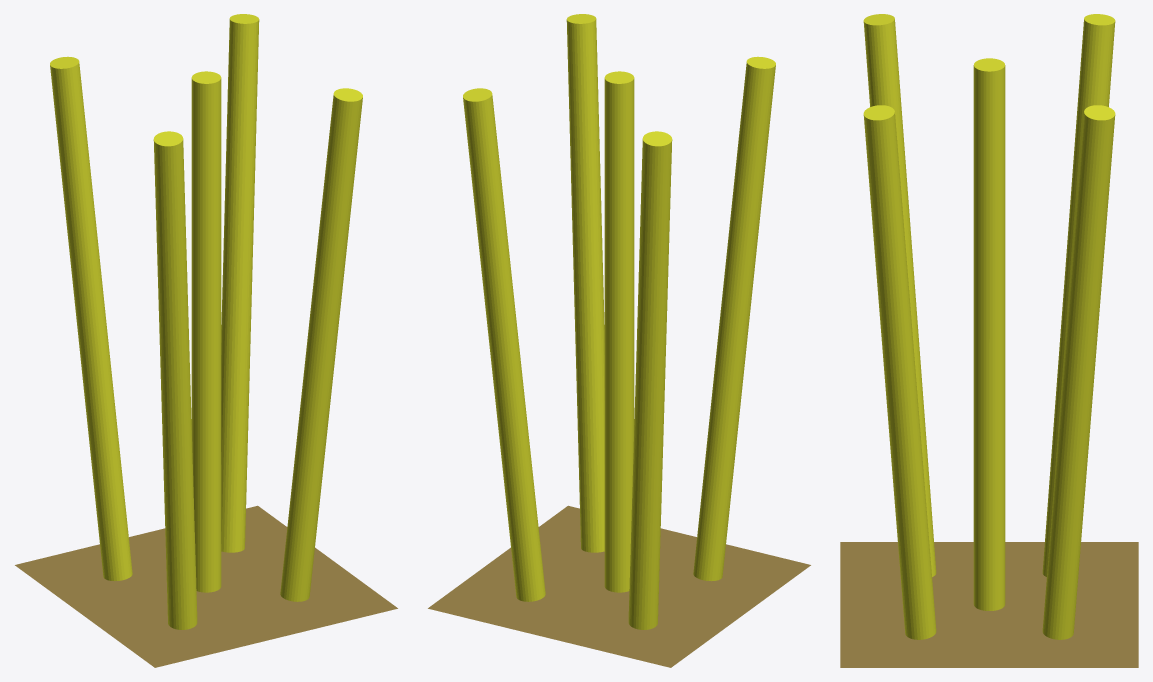
The model's file is TestGameColos.fbx.
The picture shows the model from 3 angles, left to right: view 1: azimuth 30°, elevation 25°; view 2: azimuth 150°, elevation 25°; view 3: azimuth 270°, elevation 25°; orthographic projection. The views are drawn at different scales.
Visible parts, largest first — view 1: Colos.001, Ground, Colos; view 2: Colos.001, Ground, Colos; view 3: Colos.001, Ground, Colos.
Part boxes in pixels (<box>): Colos.001: <box>50,14,362,629</box>; Ground: <box>15,505,397,667</box>; Colos: <box>191,71,221,592</box>; Colos.001: <box>463,14,775,629</box>; Ground: <box>428,505,810,667</box>; Colos: <box>604,71,634,592</box>; Colos.001: <box>863,14,1115,639</box>; Ground: <box>840,542,1138,667</box>; Colos: <box>973,58,1005,610</box>.
Size of the model in its own units: 200 by 400 by 200.
